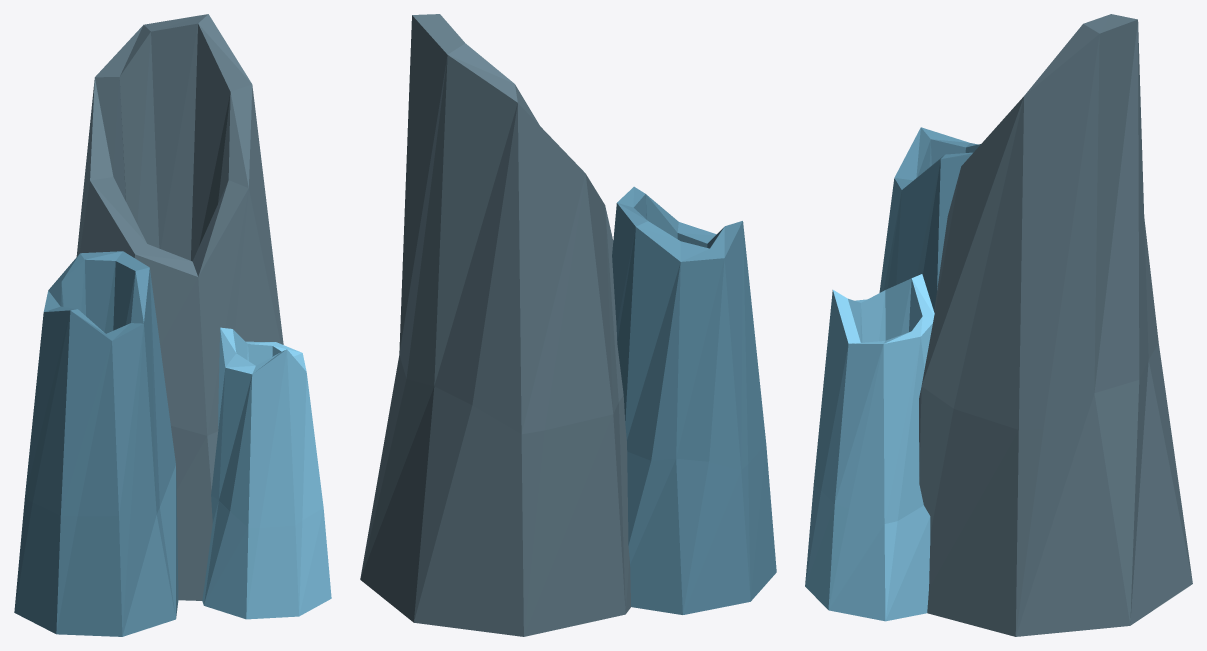
Rendered from RH_Plant03.fbx.
The picture shows the model from 3 angles, left to right: view 1: azimuth 30°, elevation 25°; view 2: azimuth 150°, elevation 25°; view 3: azimuth 270°, elevation 25°; orthographic projection. The views are drawn at different scales.
Visible parts, largest first — view 1: RH_Plant03; view 2: RH_Plant03; view 3: RH_Plant03.
Boxes of the visible parts, x1=… form: RH_Plant03: x1=14, y1=14, x2=331, y2=636; RH_Plant03: x1=360, y1=14, x2=776, y2=636; RH_Plant03: x1=805, y1=14, x2=1192, y2=636.
Bounding box in the file's own units: 73.02 × 116 × 71.21.
1 material, 1 textured.
